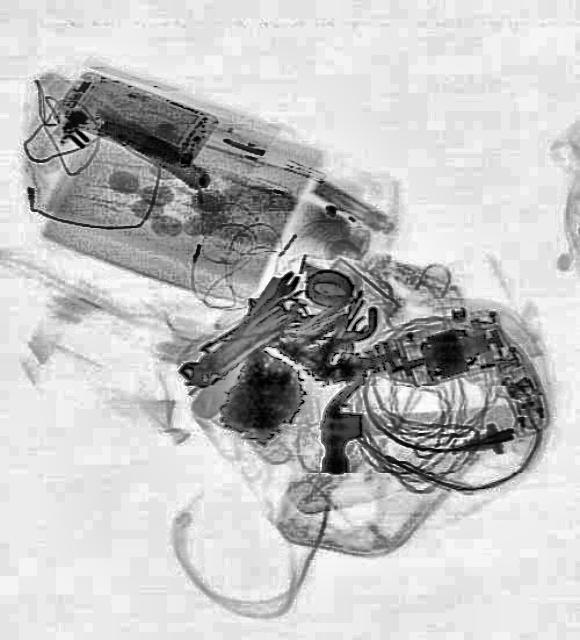Wrench: (224, 266, 302, 342), (174, 332, 237, 386)
